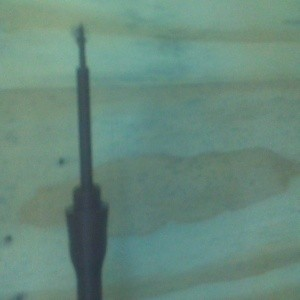solder: (64, 21, 109, 300)
